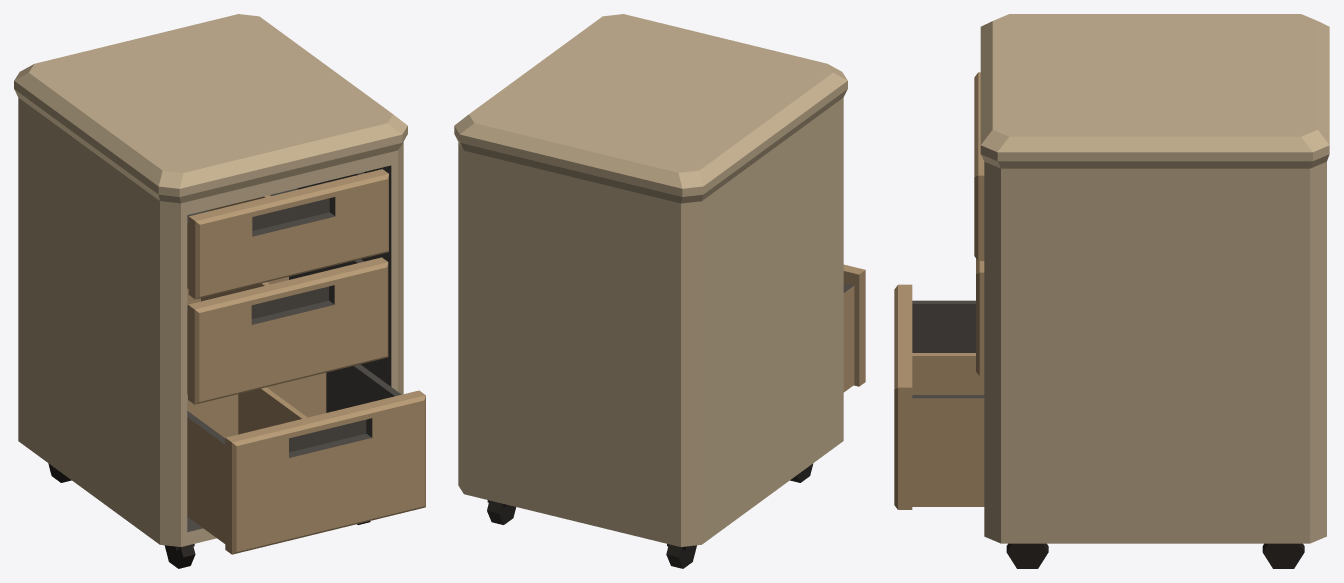
The model's file is filing-cabinet-f8a251.glb.
3 views of the same model, side by side, from view 1: azimuth 30°, elevation 25°; view 2: azimuth 150°, elevation 25°; view 3: azimuth 270°, elevation 25° (orthographic). The views are drawn at different scales.
Visible parts, largest first — view 1: filing-cabinet, drawer-3, drawer-2, drawer-1; view 2: filing-cabinet, drawer-3; view 3: filing-cabinet, drawer-3, drawer-1, drawer-2.
Boxes of the visible parts, bbox=[...] form: filing-cabinet: bbox=[14, 14, 407, 568]; drawer-3: bbox=[187, 364, 425, 554]; drawer-2: bbox=[187, 257, 388, 404]; drawer-1: bbox=[187, 169, 388, 299]; filing-cabinet: bbox=[454, 14, 847, 568]; drawer-3: bbox=[843, 264, 865, 392]; filing-cabinet: bbox=[980, 14, 1329, 568]; drawer-3: bbox=[894, 284, 984, 509]; drawer-1: bbox=[974, 72, 984, 260]; drawer-2: bbox=[976, 258, 984, 376].
Size of the model in its own units: 0.45 by 0.7 by 0.624.
